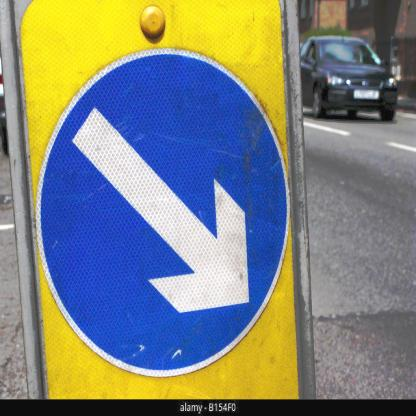Keep right: (40, 47, 290, 365)
